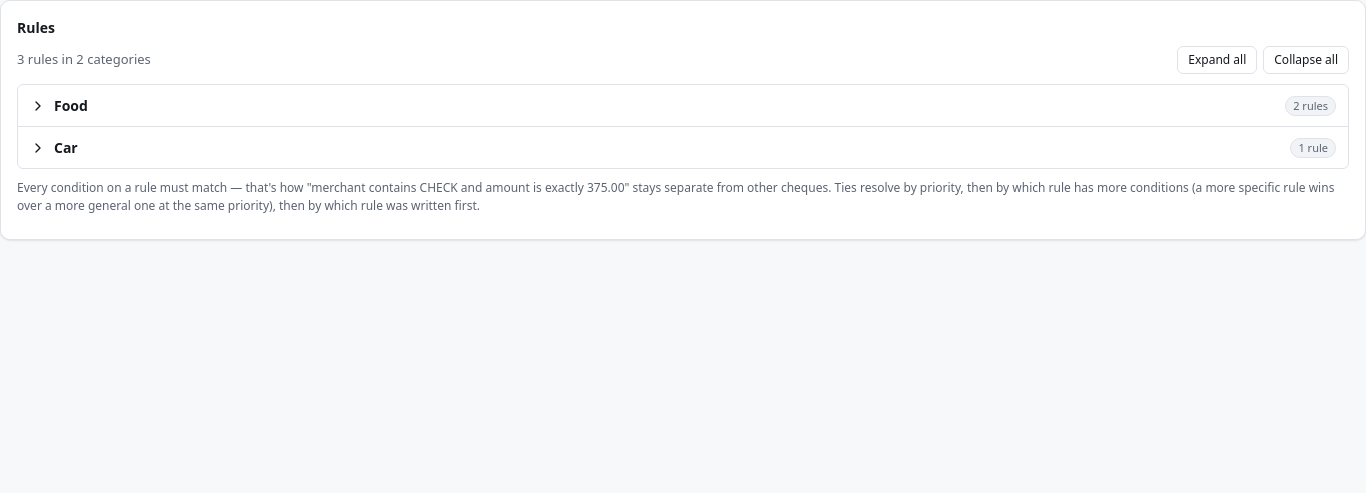
RulesPanel › expands and collapses every group
Click the button "Expand all" at {"x": 1217, "y": 60}, box [1177, 46, 1257, 74]
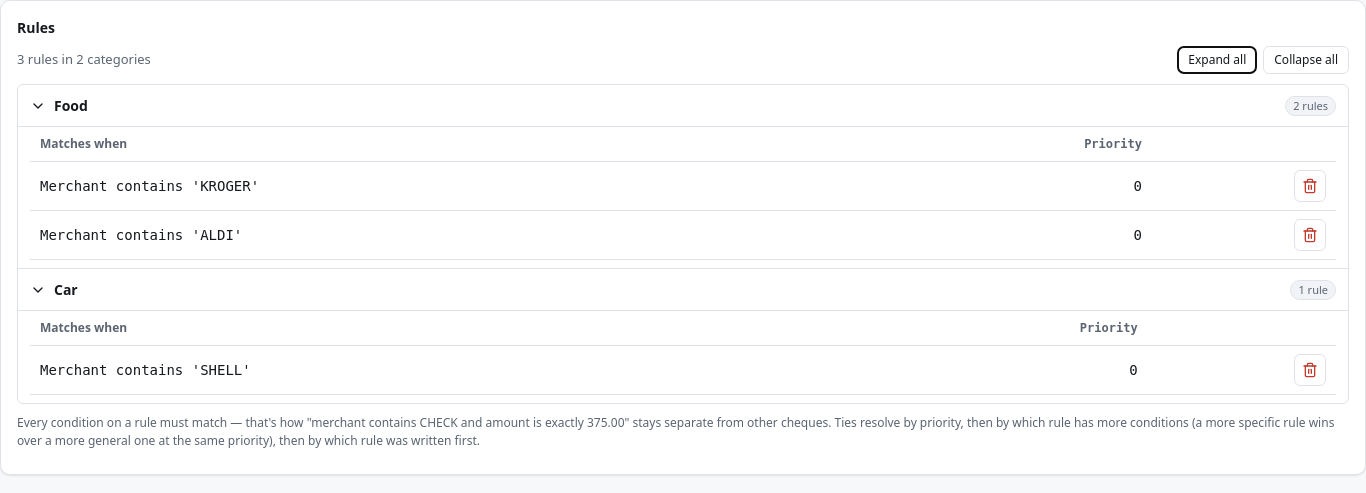
Now the text "Merchant contains 'SHELL'" is shown, box [40, 362, 251, 378]
Now the text "Merchant contains 'KROGER'" is shown, box [40, 178, 259, 194]
Click the button "Collapse all" at {"x": 1306, "y": 60}, box [1263, 46, 1349, 74]
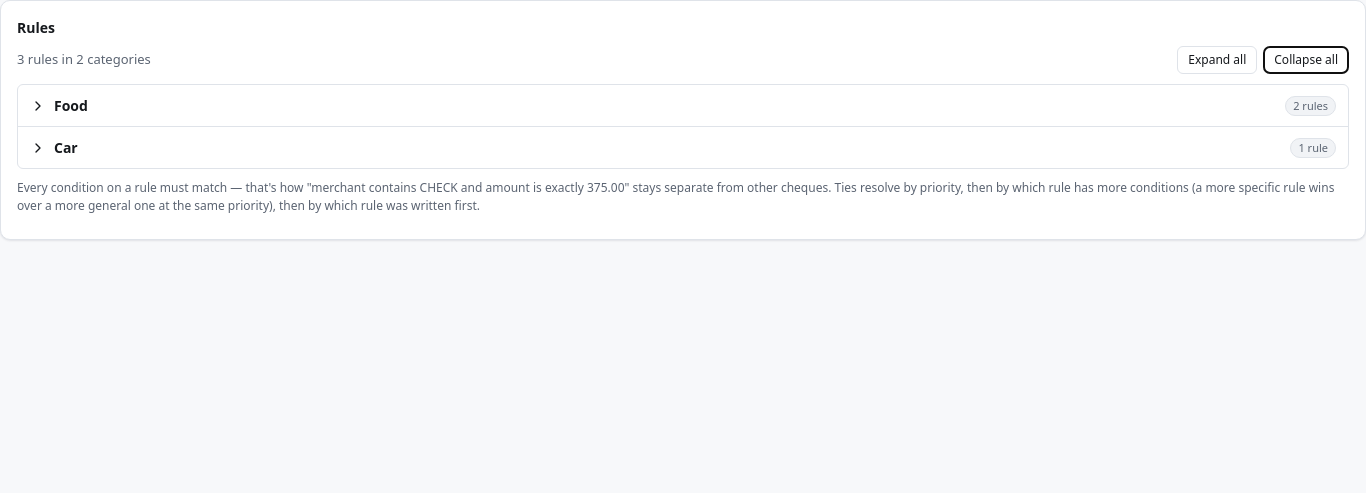
Now the text "SHELL" is gone
